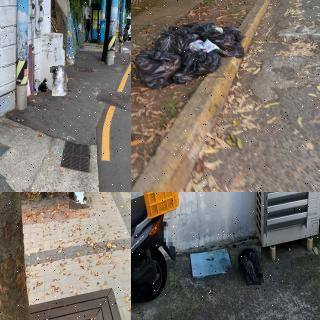Garbage: (134, 49, 181, 88), (179, 52, 221, 82), (237, 245, 263, 286), (156, 30, 200, 54), (51, 66, 67, 96), (67, 192, 91, 209), (39, 76, 50, 93)
